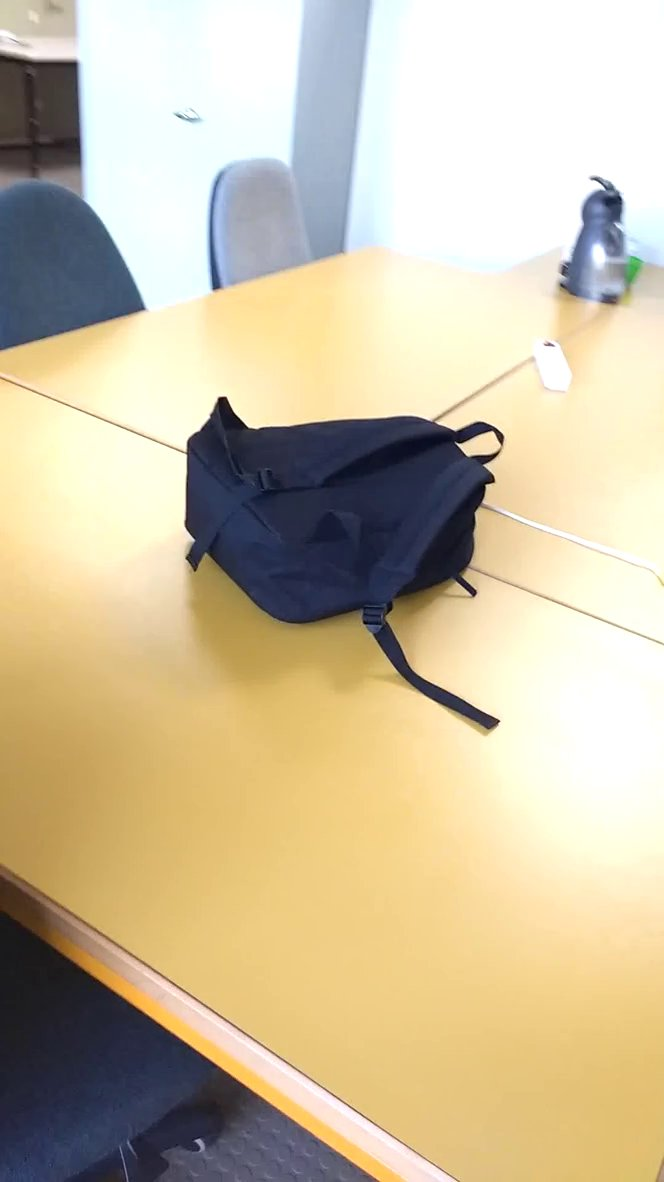bag: (162, 381, 518, 748)
chair: (2, 169, 164, 363), (194, 150, 338, 306)
